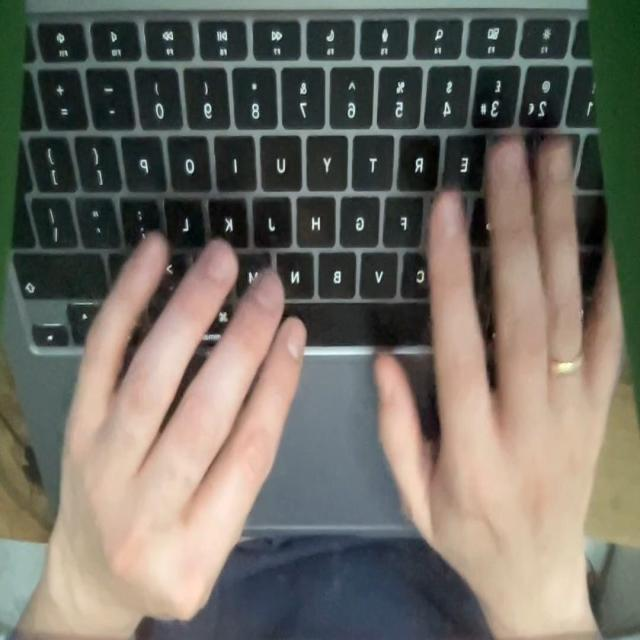keyboard-with-hands: (4, 0, 627, 534)
